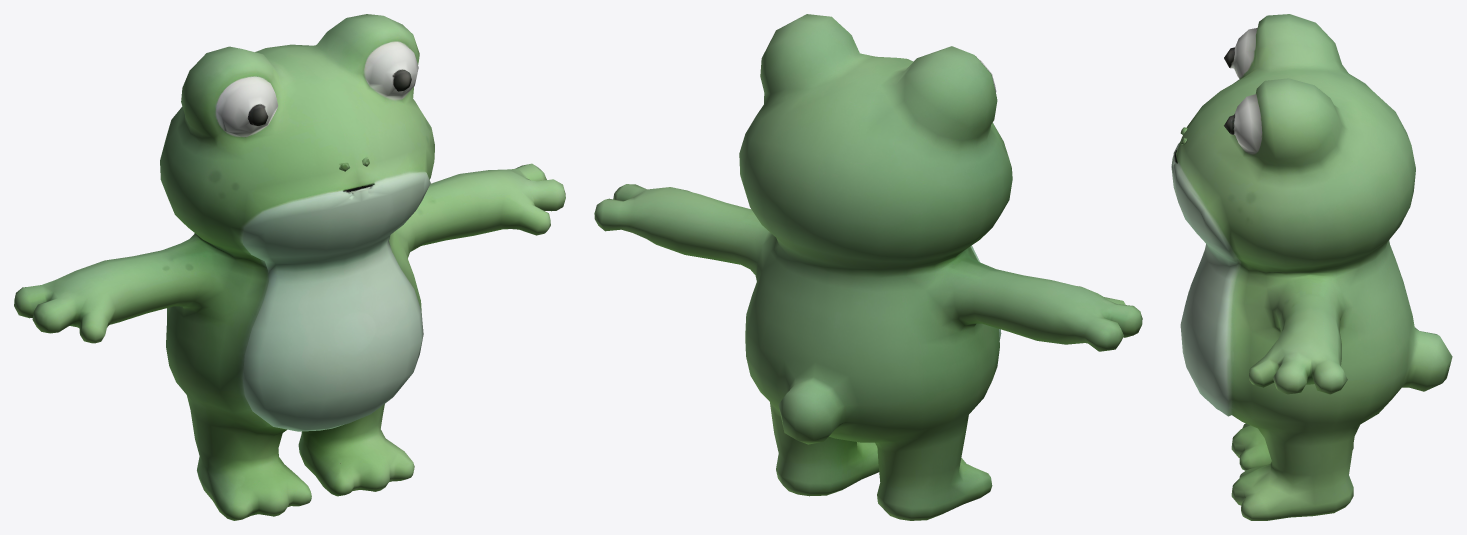
Rendered from frog.glb.
The picture shows the model from 3 angles, left to right: view 1: azimuth 30°, elevation 25°; view 2: azimuth 150°, elevation 25°; view 3: azimuth 270°, elevation 25°; orthographic projection. The views are drawn at different scales.
Visible parts, largest first — view 1: tripo_node_289729c7-d6be-4249-b81c-d337db079d67; view 2: tripo_node_289729c7-d6be-4249-b81c-d337db079d67; view 3: tripo_node_289729c7-d6be-4249-b81c-d337db079d67.
Boxes of the visible parts, bbox=[...] form: tripo_node_289729c7-d6be-4249-b81c-d337db079d67: bbox=[14, 14, 565, 520]; tripo_node_289729c7-d6be-4249-b81c-d337db079d67: bbox=[594, 14, 1142, 520]; tripo_node_289729c7-d6be-4249-b81c-d337db079d67: bbox=[1171, 14, 1452, 520].
Bounding box in the file's own units: 0.9782 × 0.8021 × 0.4728.
Materials: 1 (1 with a texture image).
